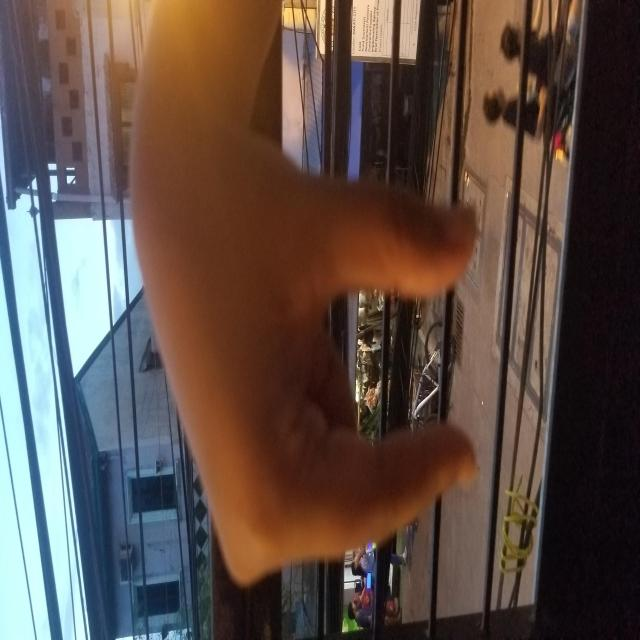Q: (48, 130, 516, 609)
